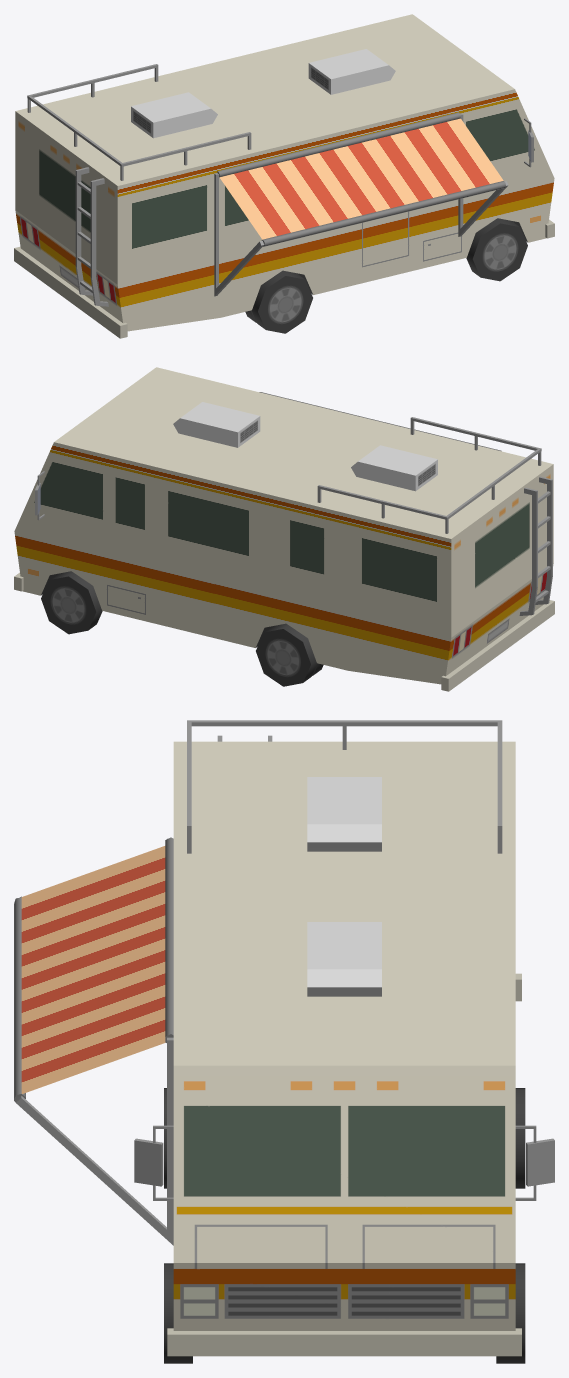
File: west_che01.FBX
3 views of the same model, one above another, from view 1: azimuth 30°, elevation 25°; view 2: azimuth 150°, elevation 25°; view 3: azimuth 270°, elevation 25° (orthographic). The views are drawn at different scales.
Visible parts, largest first — view 1: west_che01; view 2: west_che01; view 3: west_che01.
Part boxes in pixels (bbox=[...]): west_che01: bbox=[14, 14, 554, 338]; west_che01: bbox=[14, 367, 554, 691]; west_che01: bbox=[14, 720, 554, 1363].
Bounding box in the file's own units: 2468 × 1063 × 1540.
